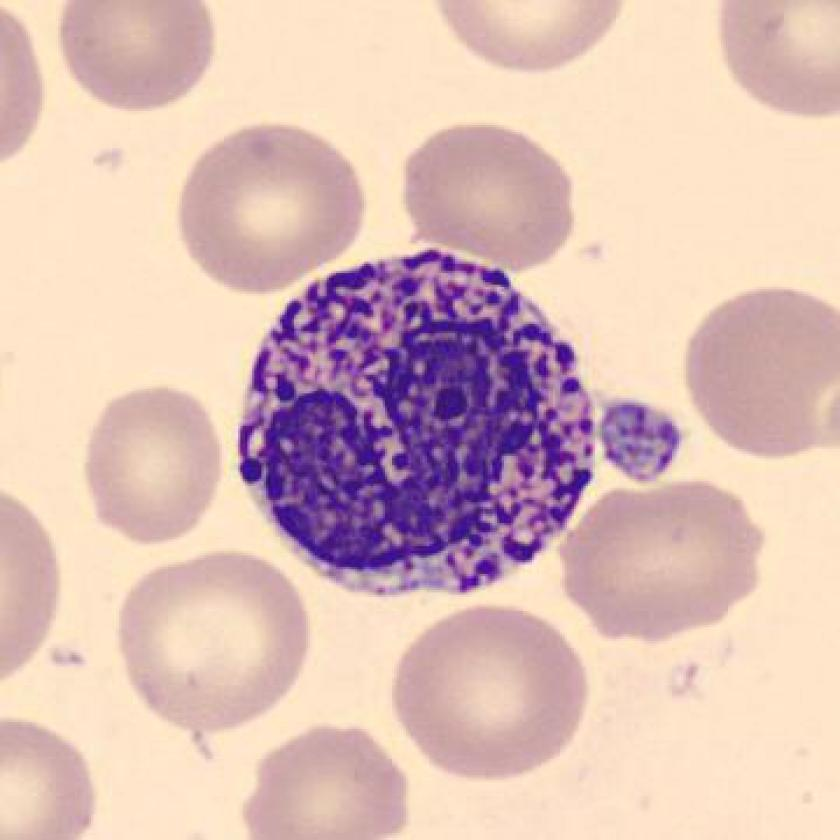basophil: (227, 240, 615, 608)
